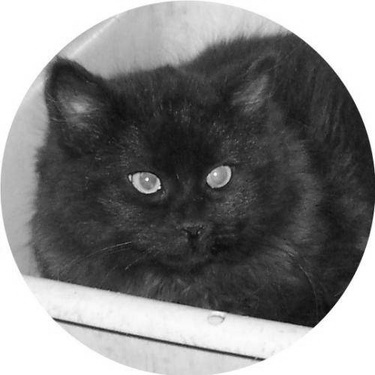cat: (24, 28, 370, 325)
